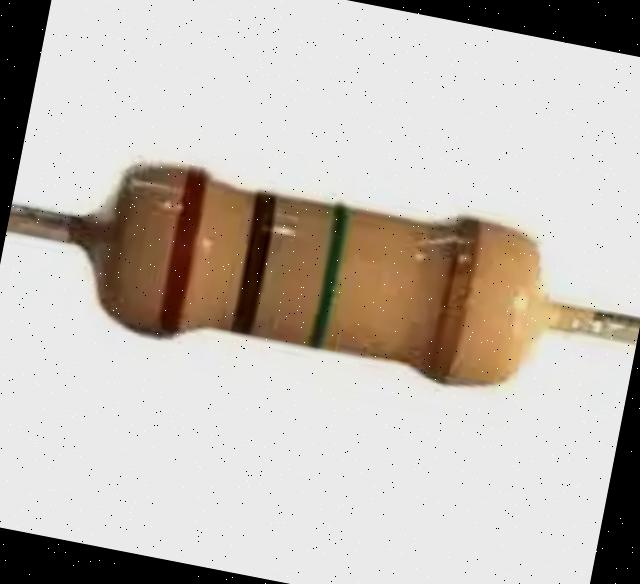brown: (154, 166, 208, 337), (231, 192, 277, 333)
gold: (424, 215, 484, 384)
green: (308, 205, 351, 349)
resistor: (67, 123, 578, 420)
